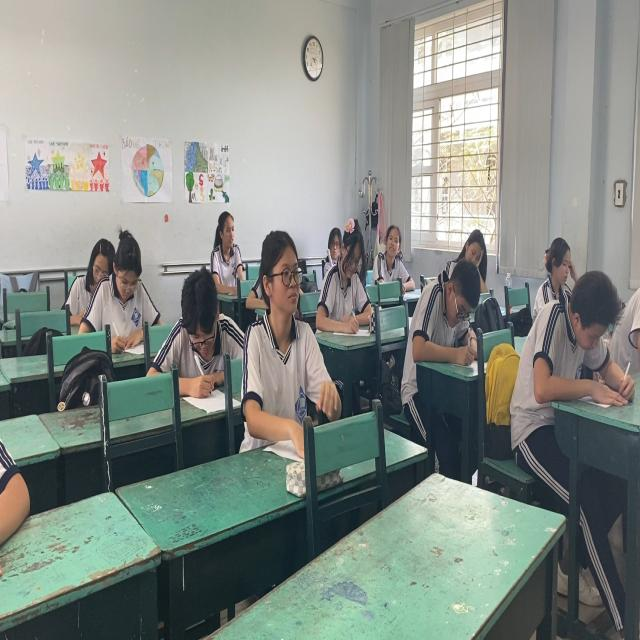not_cheating: (243, 226, 326, 430), (546, 262, 633, 410), (417, 249, 481, 374), (101, 230, 163, 342), (165, 266, 228, 374), (326, 220, 378, 335), (365, 206, 416, 292), (202, 209, 244, 285), (79, 229, 118, 302), (540, 235, 576, 298), (461, 233, 494, 282), (322, 220, 342, 259)
